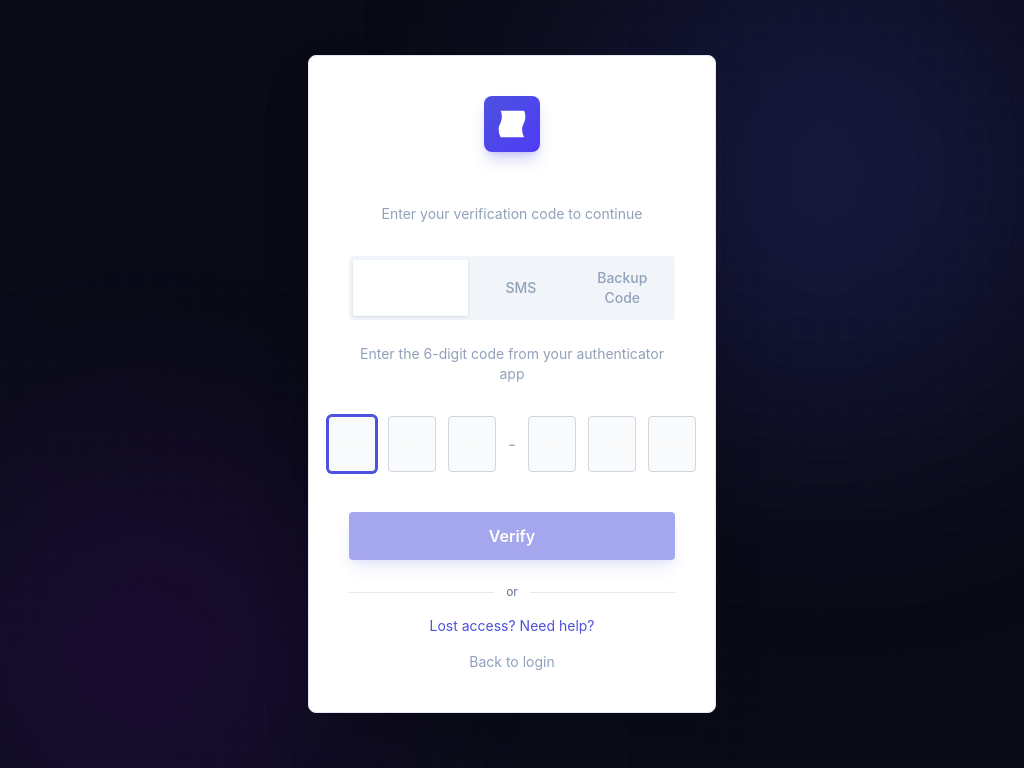
Scenario: MfaLoginForm › Method Selection › switches back to TOTP method
Switch to backup
Click the button "Backup Code": [622, 288] box 574,260 -> 671,316
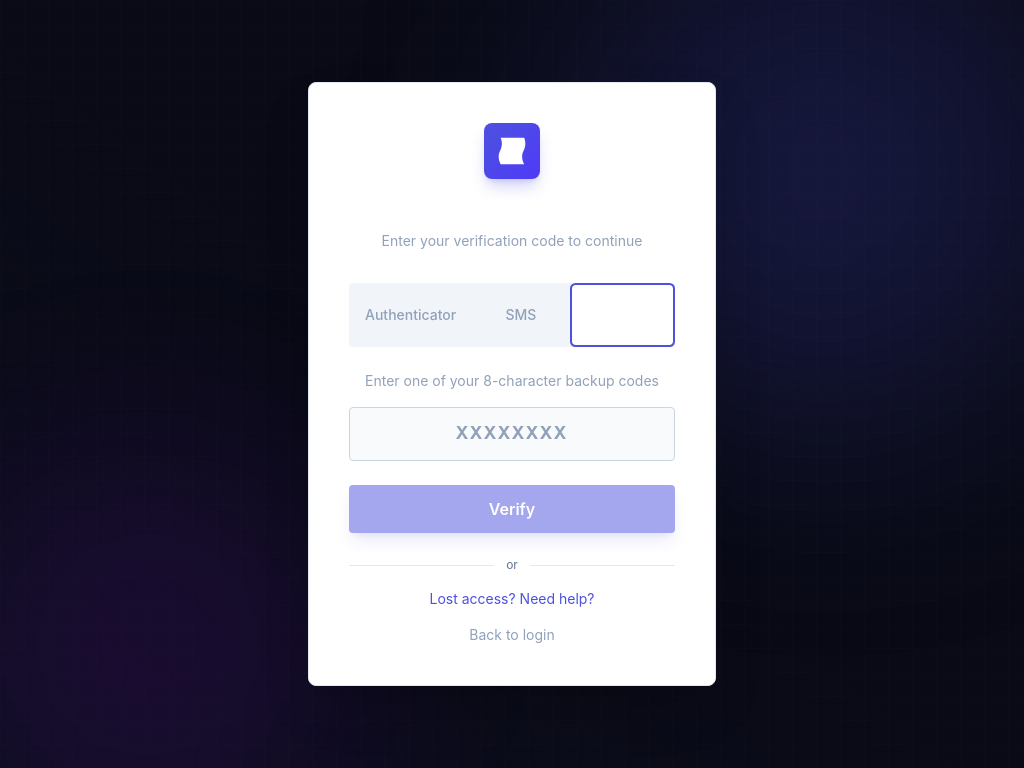
Switch back to TOTP
Click the button "Authenticator": [411, 315] box 353,287 -> 468,343
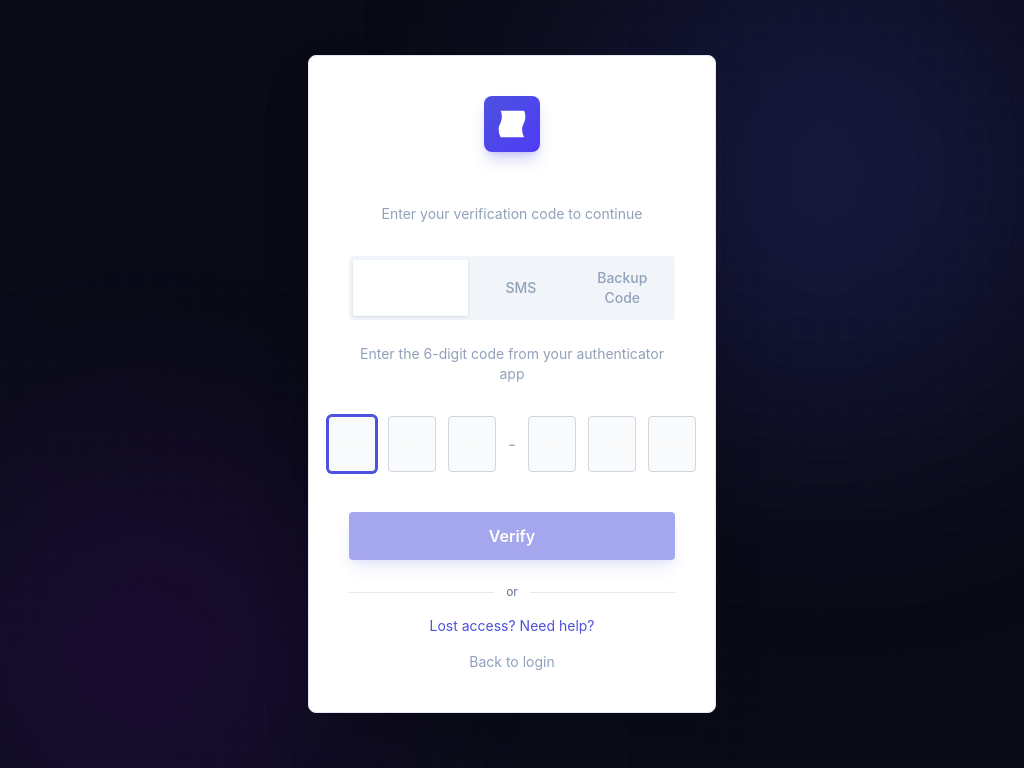
Expected: the field named "digit 1 of 6" is shown, 328,416 -> 376,472
